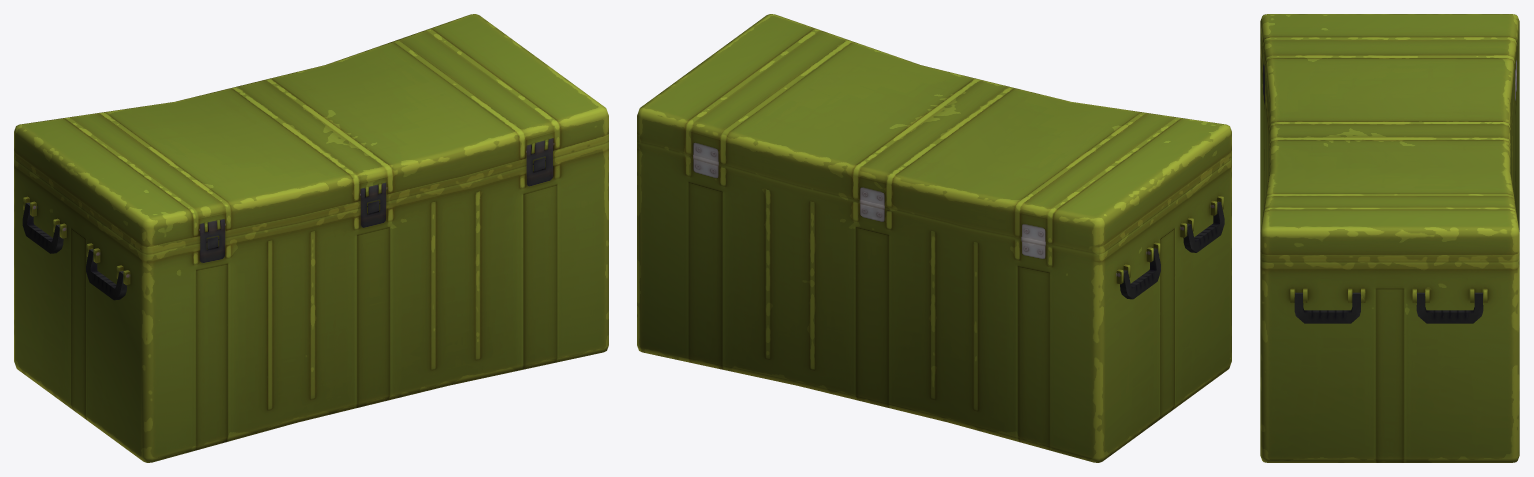
The model's file is StorageCase03.FBX.
3 views of the same model, side by side, from view 1: azimuth 30°, elevation 25°; view 2: azimuth 150°, elevation 25°; view 3: azimuth 270°, elevation 25° (orthographic). The views are drawn at different scales.
Parts seen in each view (by area): view 1: StorageCase03; view 2: StorageCase03; view 3: StorageCase03.
Boxes of the visible parts, left/top/right/bottom form: StorageCase03: left=14, top=14, right=608, bottom=462; StorageCase03: left=637, top=14, right=1231, bottom=462; StorageCase03: left=1260, top=14, right=1519, bottom=462.
Size of what is drawn, in the model's own units: 1.54 by 0.7444 by 0.7443.
